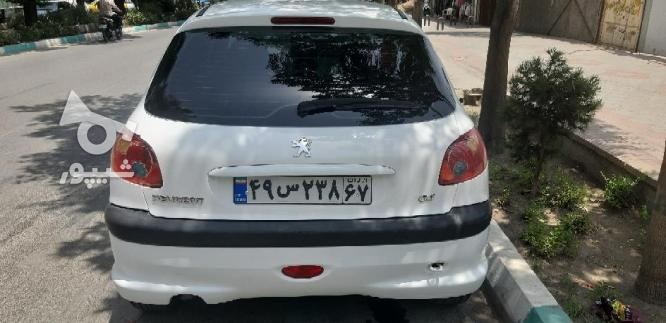car: (235, 172, 375, 208)
